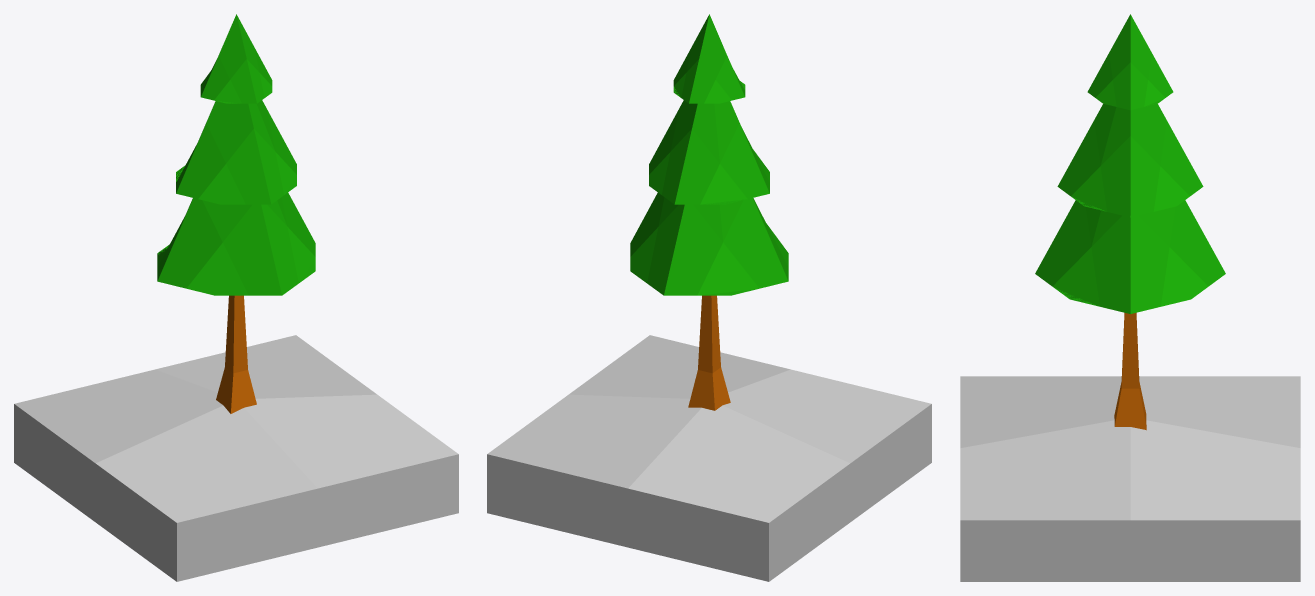
The model's file is GreenCypress.fbx.
3 renders of one model, left to right at view 1: azimuth 30°, elevation 25°; view 2: azimuth 150°, elevation 25°; view 3: azimuth 270°, elevation 25°, orthographic. The views are drawn at different scales.
Parts seen in each view (by area): view 1: Cube.004, Cube, Cube.001, Cube.002, Cube.003; view 2: Cube.004, Cube, Cube.001, Cube.002, Cube.003; view 3: Cube.004, Cube, Cube.001, Cube.002, Cube.003.
Part boxes in pixels (<box>): Cube.004: <box>14,335,458,581</box>; Cube: <box>157,192,315,295</box>; Cube.001: <box>176,100,296,204</box>; Cube.002: <box>200,14,272,103</box>; Cube.003: <box>216,295,256,413</box>; Cube.004: <box>487,335,931,581</box>; Cube: <box>630,192,788,295</box>; Cube.001: <box>649,100,769,204</box>; Cube.002: <box>673,14,745,103</box>; Cube.003: <box>688,295,730,410</box>; Cube.004: <box>960,376,1300,581</box>; Cube: <box>1035,200,1225,313</box>; Cube.001: <box>1057,104,1203,217</box>; Cube.002: <box>1087,14,1173,110</box>; Cube.003: <box>1114,312,1146,430</box>.
Size of the model in its own units: 500 by 803 by 500.
